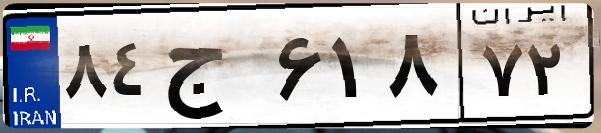1: (330, 28, 385, 110)
2: (525, 38, 570, 115)
4: (110, 28, 158, 98)
6: (270, 28, 330, 110)
7: (475, 38, 525, 113)
8: (385, 28, 445, 110), (57, 26, 110, 100)
ج: (158, 20, 270, 120)
